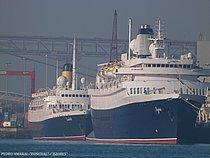Ship: (86, 18, 210, 150), (24, 80, 101, 144)
